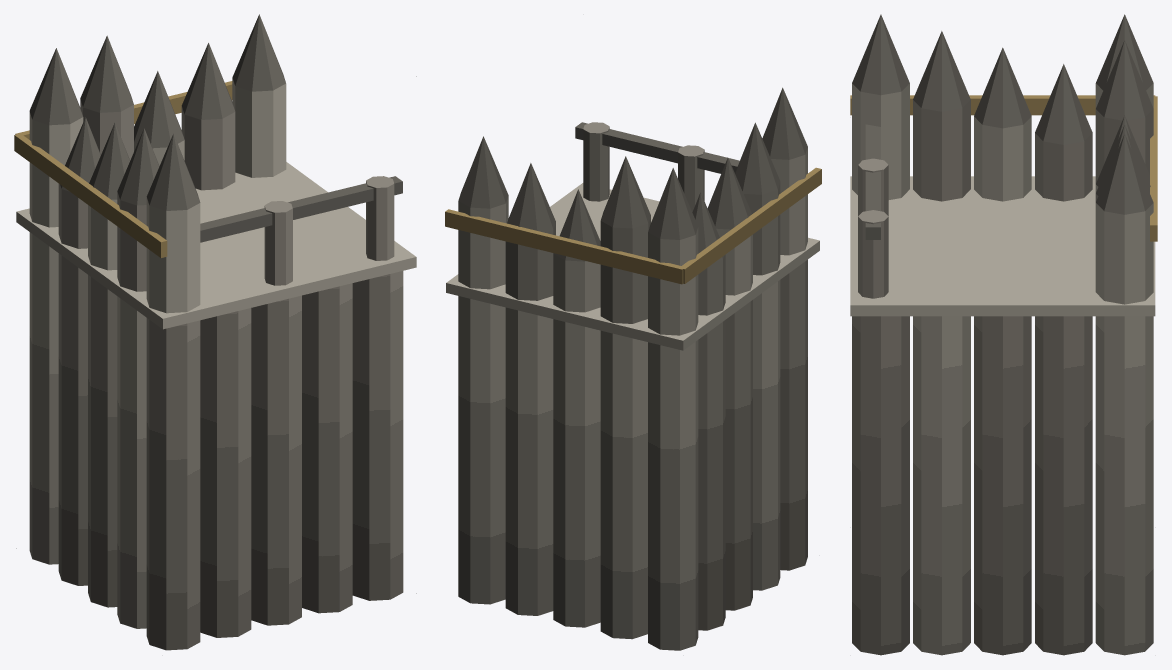
The model's file is perimeter_wall_stone_f2.glb.
The picture shows the model from 3 angles, left to right: view 1: azimuth 30°, elevation 25°; view 2: azimuth 150°, elevation 25°; view 3: azimuth 270°, elevation 25°; orthographic projection. The views are drawn at different scales.
Bounding box in the file's own units: 2.01 × 3.9 × 2.01.
1 material, 1 textured.
